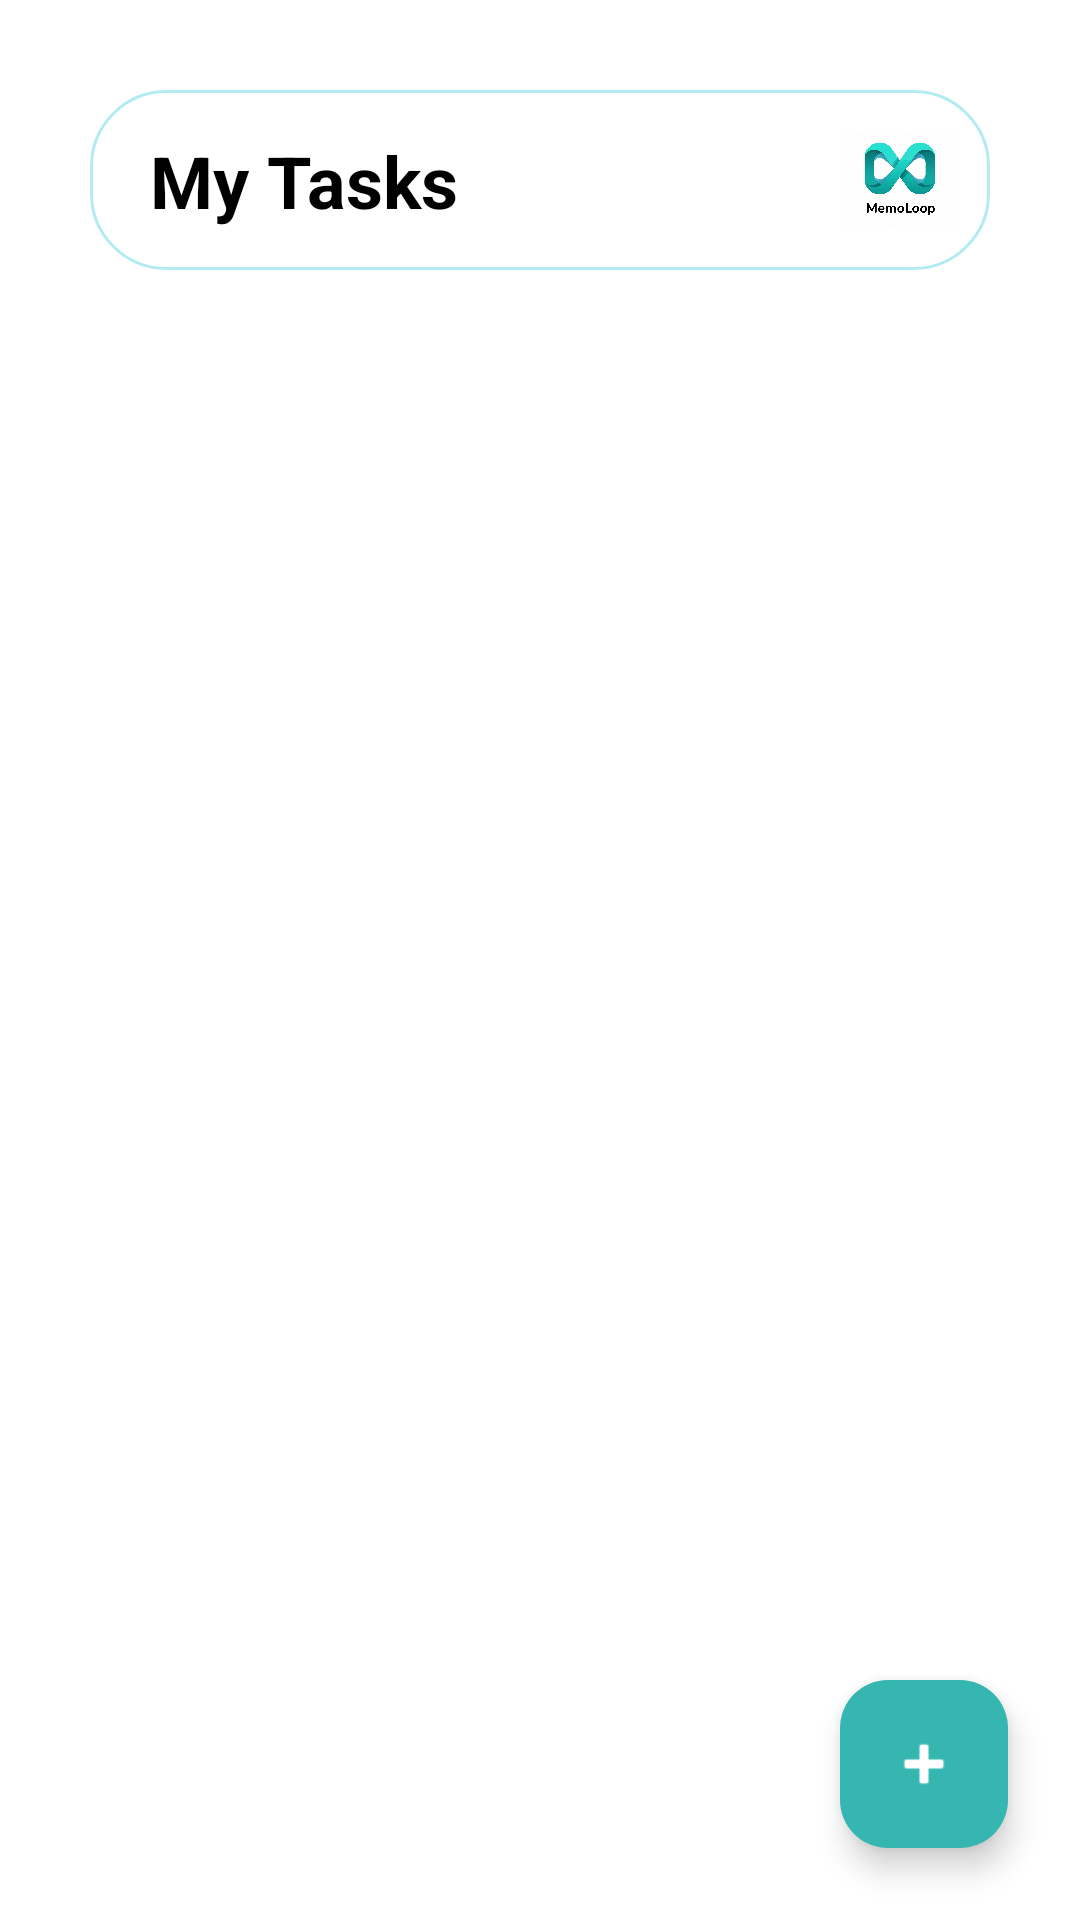

Icon click points for this 1080x1920 phone screenshot, format (x=x, y=y):
Add Task: (x=924, y=1764)
